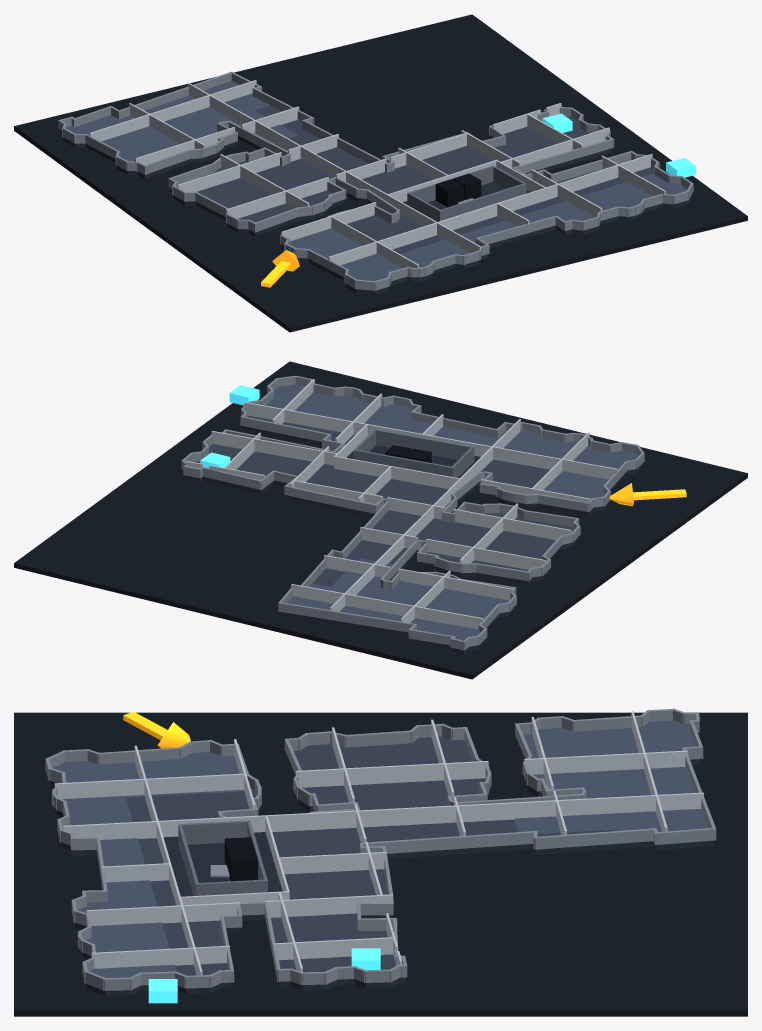
The picture shows the model from 3 angles, top to bottom: view 1: azimuth 30°, elevation 25°; view 2: azimuth 150°, elevation 25°; view 3: azimuth 270°, elevation 25°; orthographic projection. The views are drawn at different scales.
Parts seen in each view (by area): view 1: FireSight 400 Duboce Ave floor 3; view 2: FireSight 400 Duboce Ave floor 3; view 3: FireSight 400 Duboce Ave floor 3.
Boxes of the visible parts, x1,y1,x2,y2 form: FireSight 400 Duboce Ave floor 3: (14, 14, 747, 332); FireSight 400 Duboce Ave floor 3: (14, 361, 747, 679); FireSight 400 Duboce Ave floor 3: (14, 708, 747, 1016).
Size of the model in its own units: 0.6302 by 0.037 by 0.6567.
